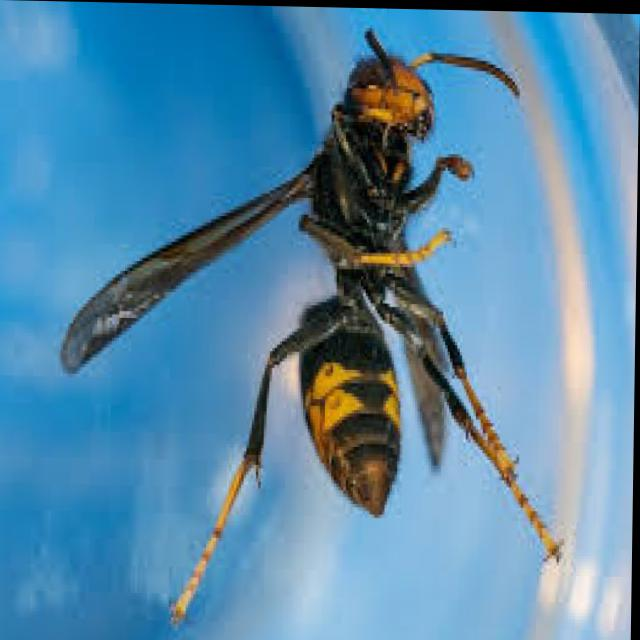Vespa Velutina: (51, 11, 580, 639)
